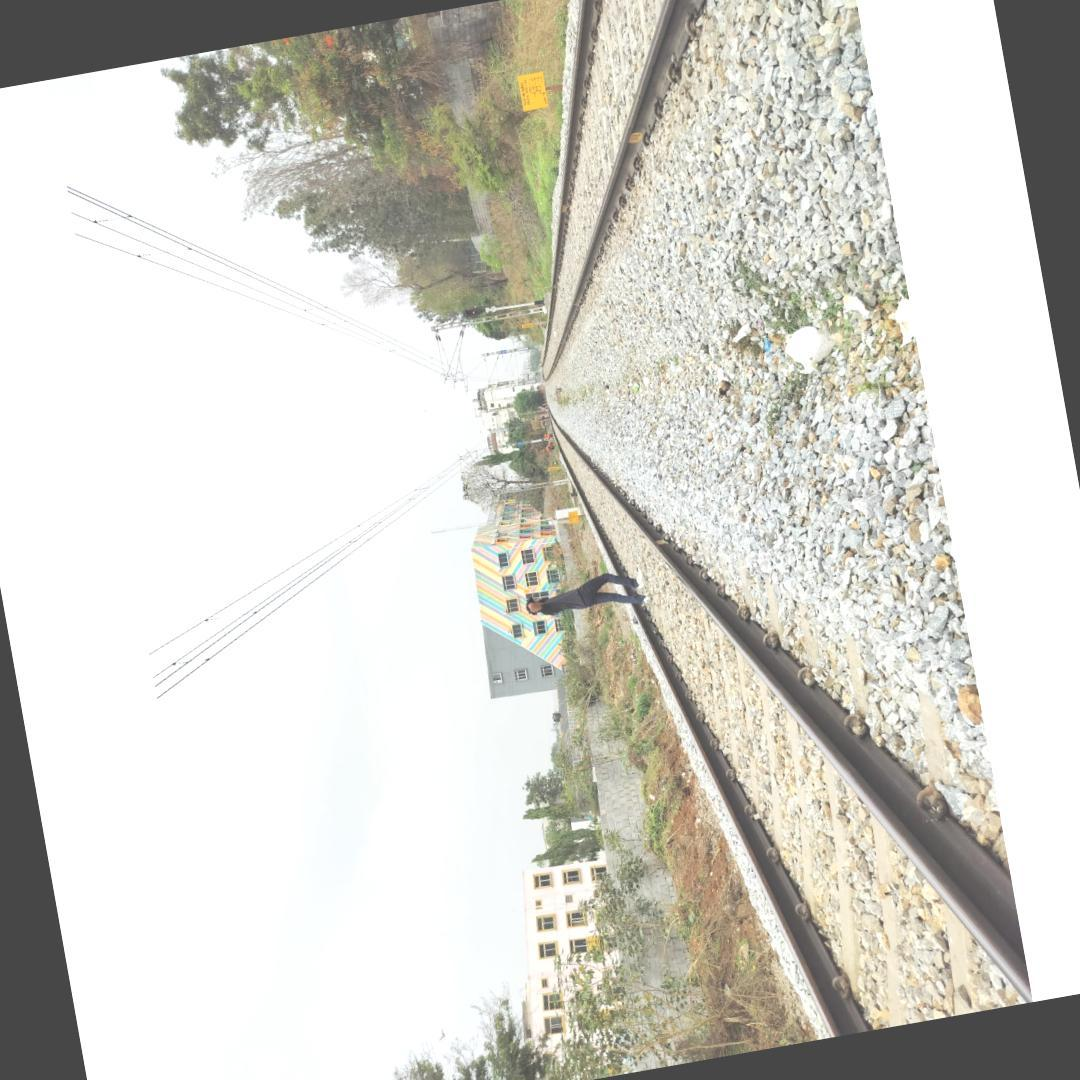standing: (526, 568, 652, 617)
track: (541, 399, 1032, 1039), (538, 0, 733, 384)
